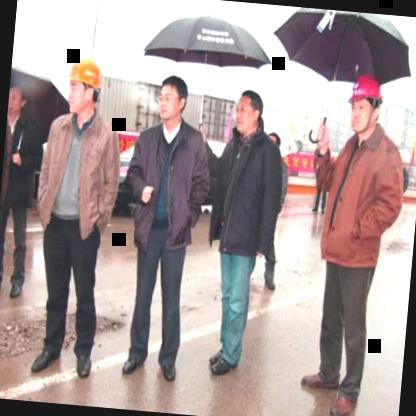head: (152, 72, 194, 128), (232, 86, 268, 141), (7, 76, 30, 122)
helmet: (343, 68, 386, 141), (63, 51, 106, 118)
